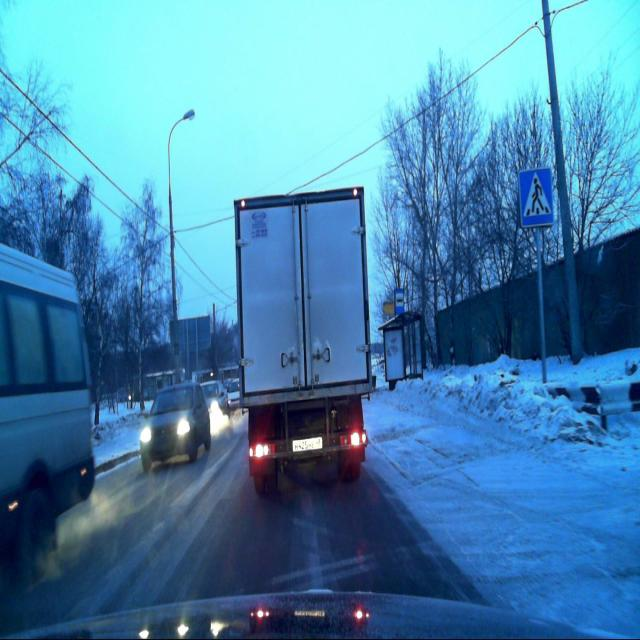object: (536, 231, 548, 384)
road sign: (518, 171, 552, 226), (394, 287, 404, 312)
